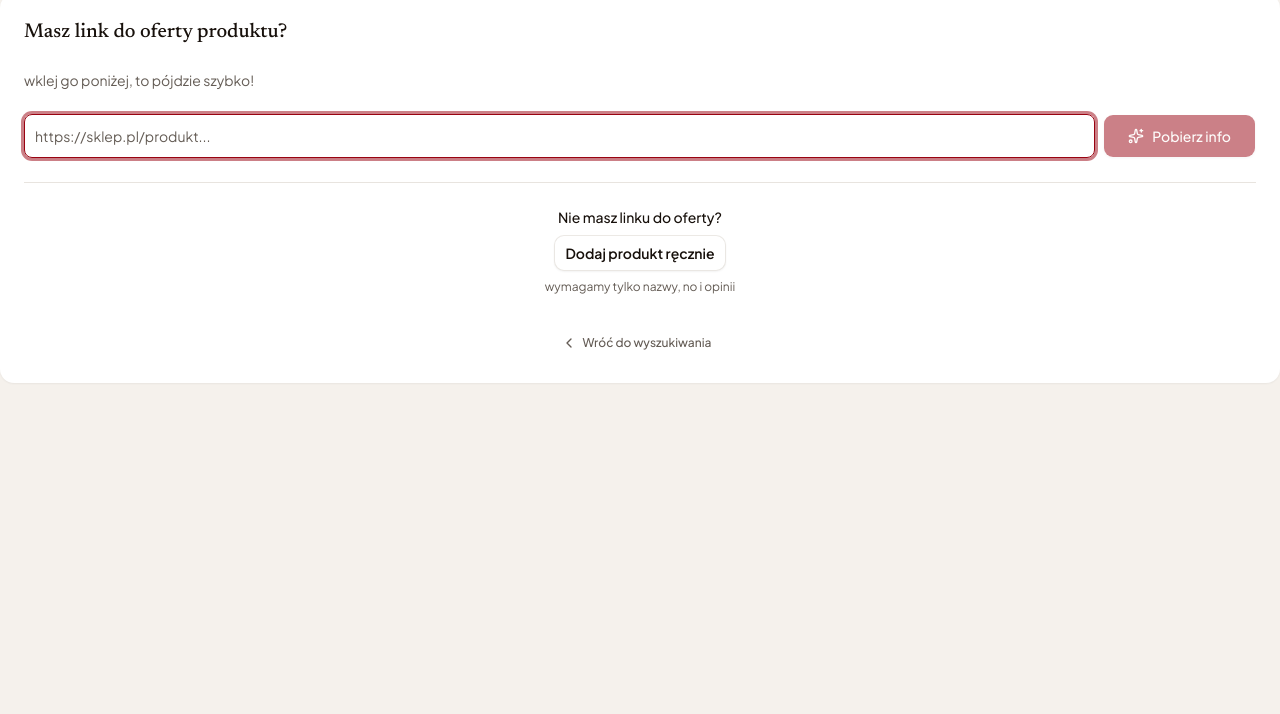
CombinedProductReviewForm › Phase Navigation › allows switching back to URL prompt from active form
This screenshot has width=1280, height=714.
Click the button "Dodaj produkt ręcznie".
click(640, 253)  # box [554, 235, 726, 271]
(page scrolled)
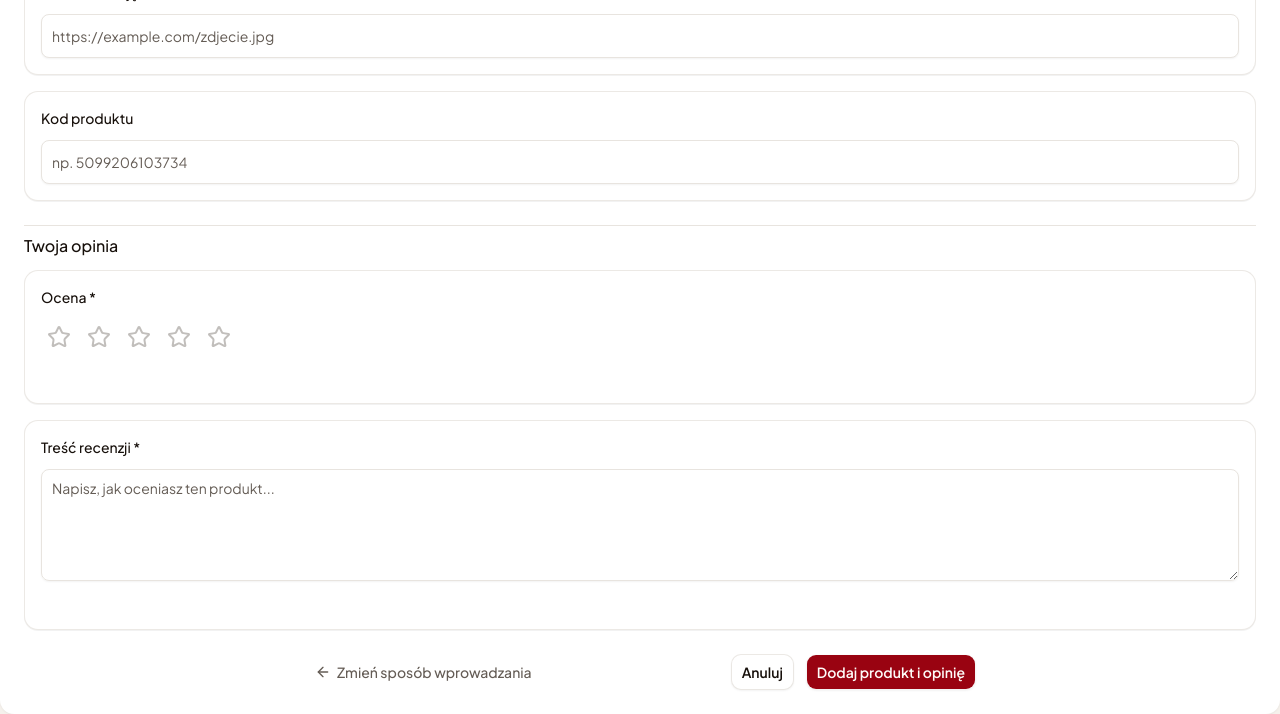
Click the button "Zmień sposób wprowadzania".
click(423, 672)  # box [304, 654, 543, 690]
(page scrolled)
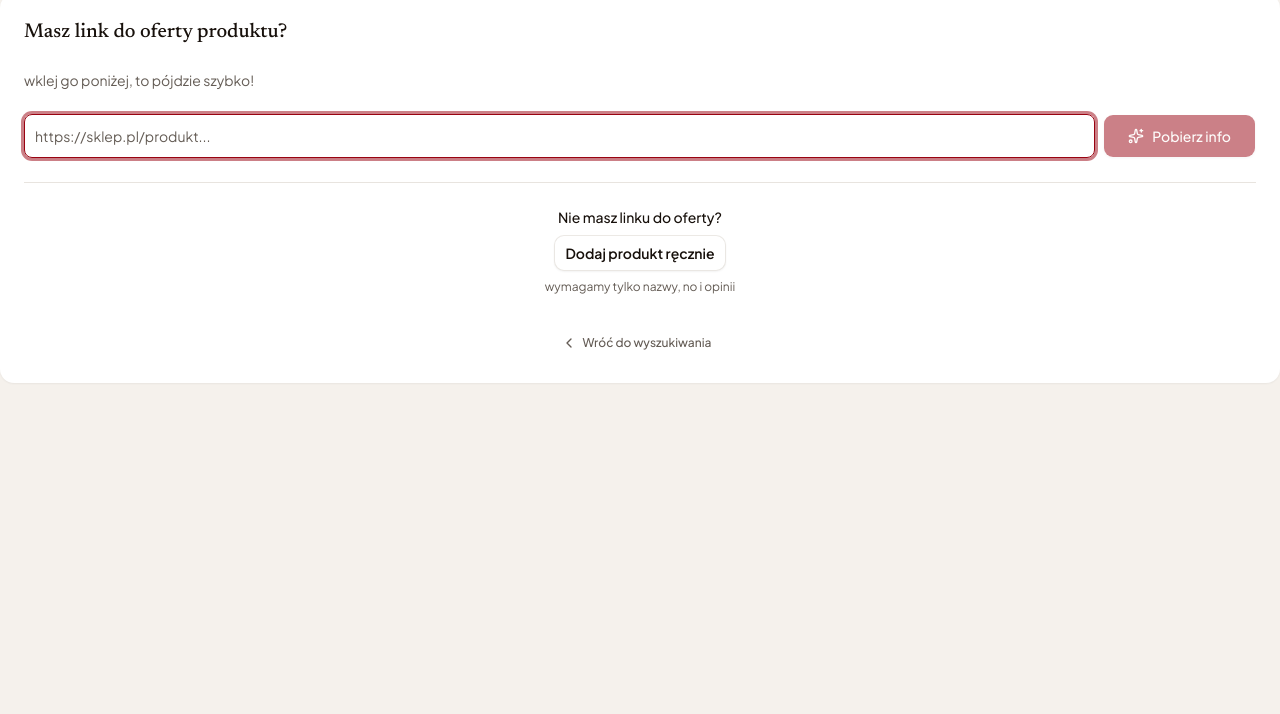
Now the heading "Masz link do oferty produktu?" is shown, box [24, 22, 287, 42]
